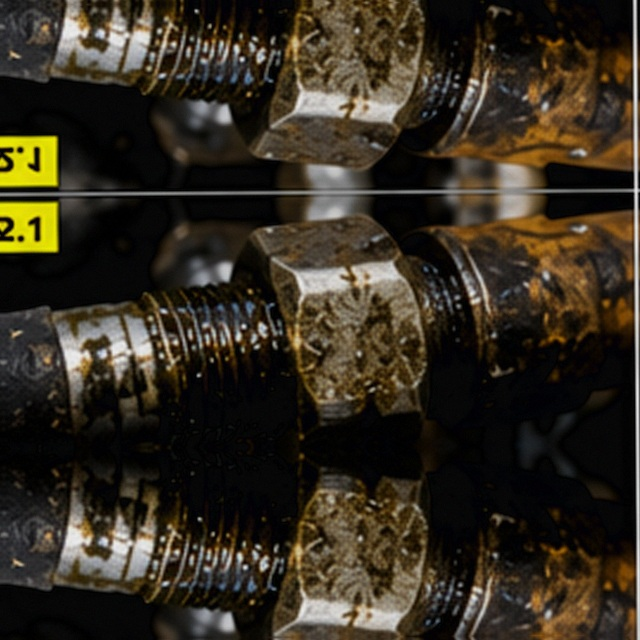hydraulic_oil_leak: (182, 209, 436, 444)
